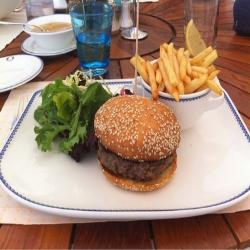burger: (93, 94, 182, 195)
fries: (132, 46, 219, 96)
salad: (46, 80, 90, 141)
